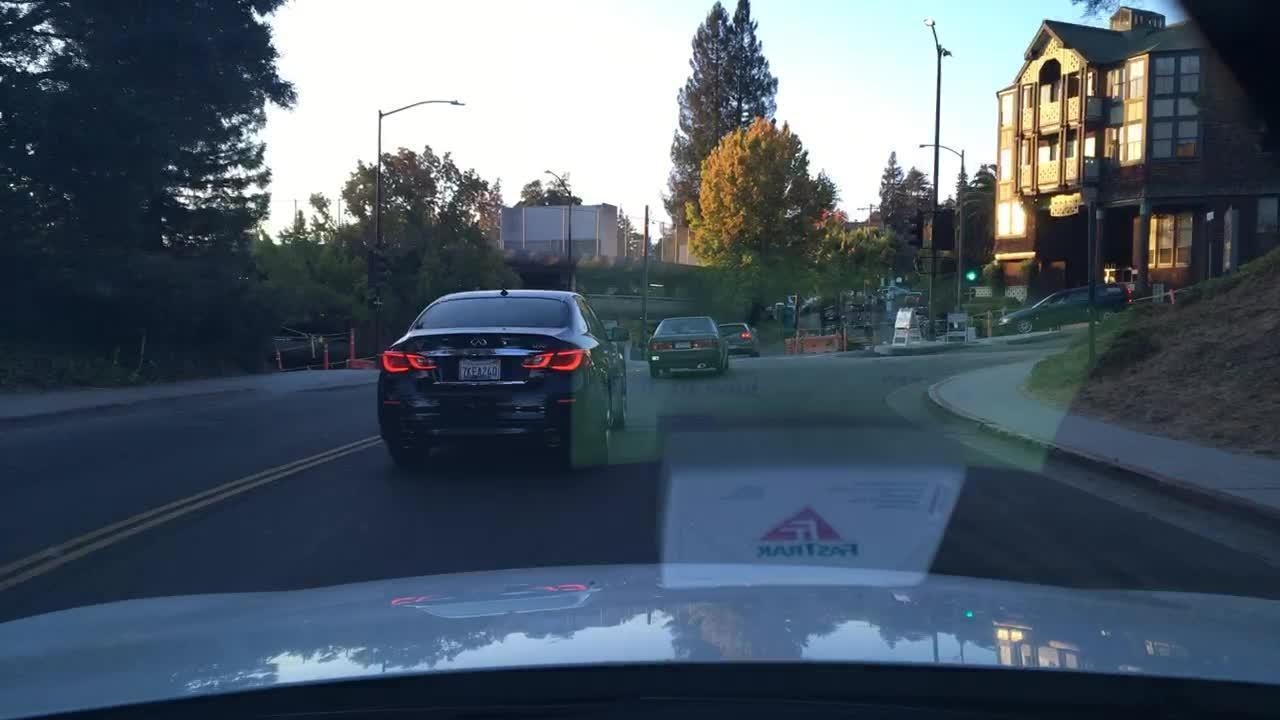Infiniti: (465, 334, 493, 349)
